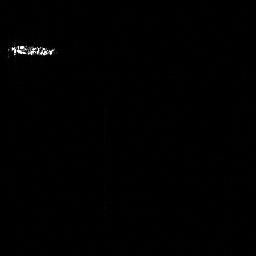ship: (7, 42, 56, 58)
